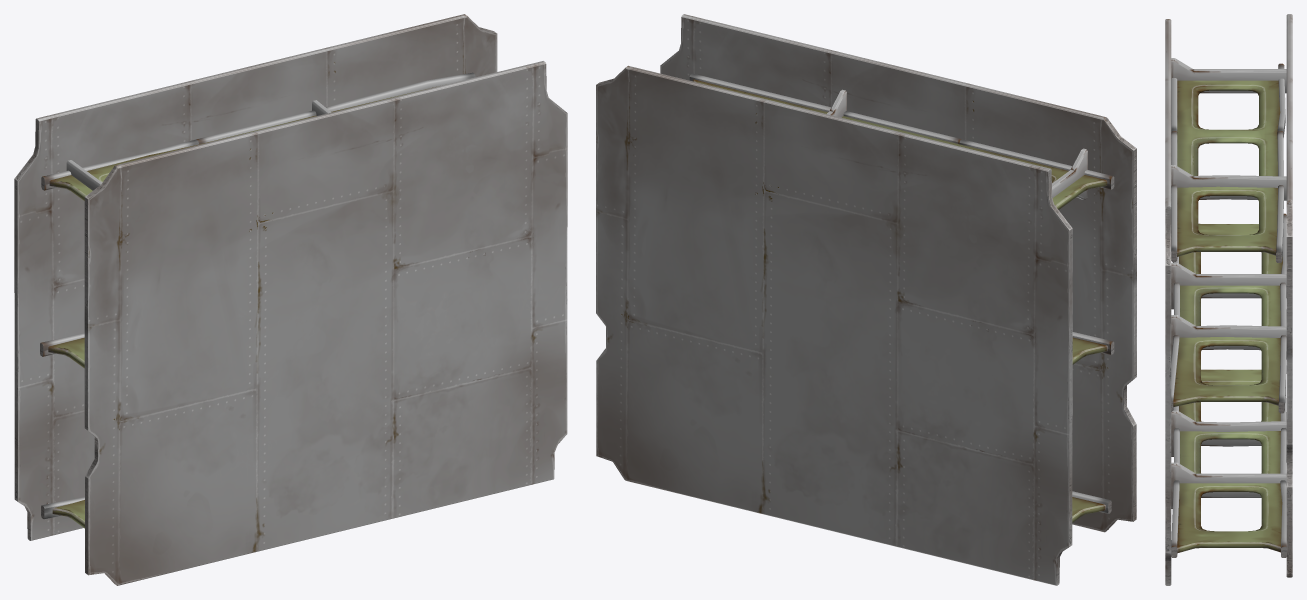
Rendered from HubFloor5.FBX.
3 views of the same model, side by side, from view 1: azimuth 30°, elevation 25°; view 2: azimuth 150°, elevation 25°; view 3: azimuth 270°, elevation 25° (orthographic). The views are drawn at different scales.
Parts seen in each view (by area): view 1: HubFloor5_LOD0; view 2: HubFloor5_LOD0; view 3: HubFloor5_LOD0.
Boxes of the visible parts, x1,y1,x2,y2 form: HubFloor5_LOD0: [14, 14, 567, 585]; HubFloor5_LOD0: [596, 14, 1136, 585]; HubFloor5_LOD0: [1165, 14, 1292, 585].
Size of what is drawn, in the model's own units: 16.51 by 13.72 by 4.21.
